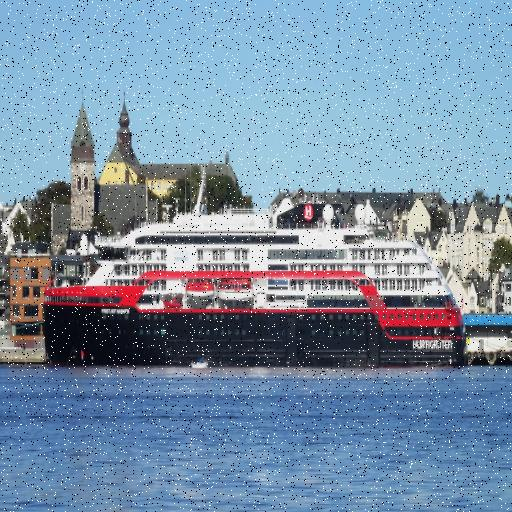cruises: (42, 168, 471, 377)
